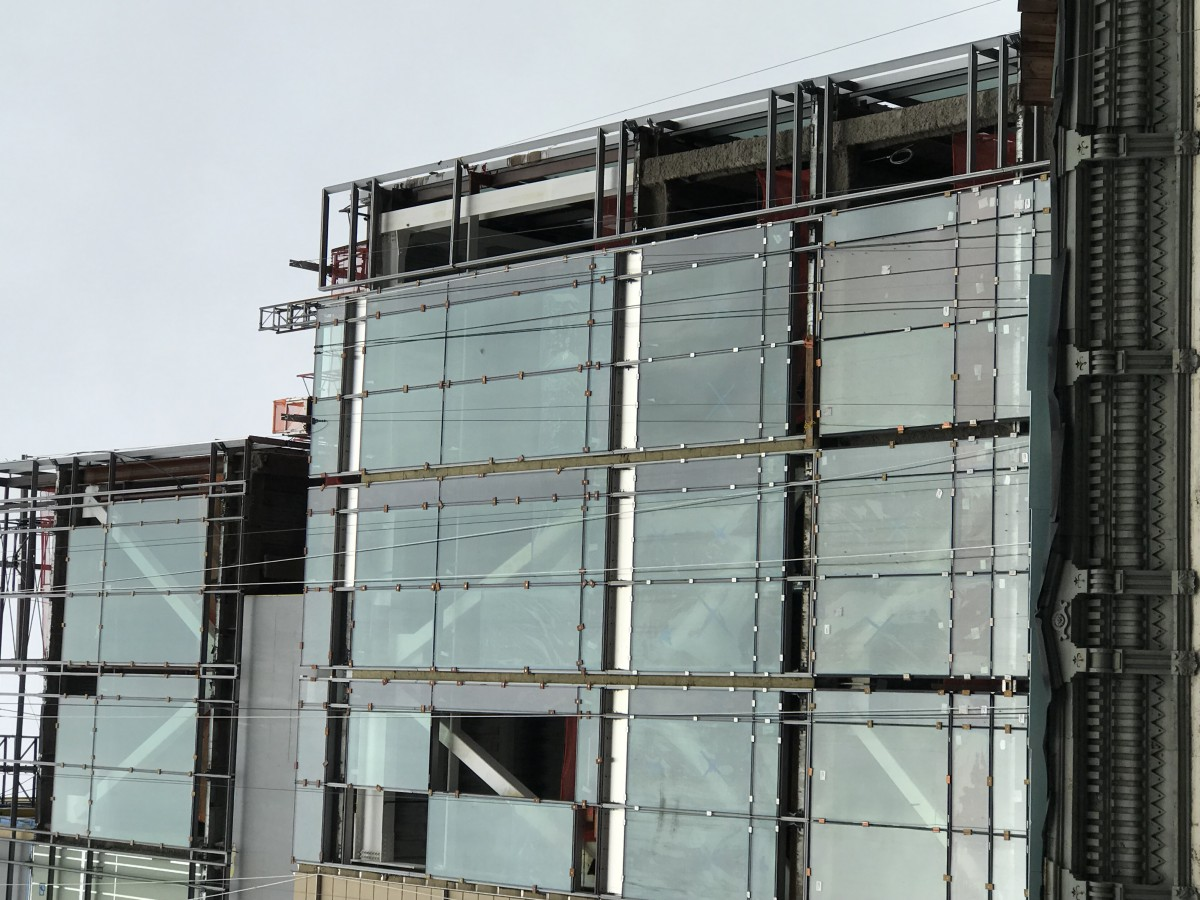glass_panel: (90, 676, 195, 845), (99, 499, 205, 663), (361, 286, 445, 469), (445, 278, 590, 381), (821, 231, 955, 337), (811, 723, 948, 826), (426, 795, 574, 890), (820, 328, 953, 432), (813, 575, 949, 674), (442, 370, 587, 462), (437, 496, 582, 588), (637, 340, 762, 445), (818, 476, 951, 574), (640, 256, 763, 357), (627, 717, 754, 812), (436, 585, 578, 668), (622, 810, 749, 899), (631, 581, 756, 671), (634, 488, 758, 577), (809, 824, 946, 899), (94, 676, 195, 771), (105, 499, 205, 590), (363, 287, 446, 393), (90, 771, 192, 845), (354, 500, 437, 588), (101, 594, 201, 663), (361, 387, 443, 469), (351, 587, 435, 666), (346, 709, 428, 789), (822, 197, 957, 241), (62, 527, 105, 660), (643, 226, 770, 270), (819, 442, 954, 483), (813, 690, 948, 726), (580, 501, 608, 668), (433, 682, 577, 714), (93, 852, 190, 899), (637, 458, 759, 494), (750, 693, 781, 830), (955, 220, 996, 322), (954, 468, 993, 572), (954, 319, 994, 420), (951, 726, 990, 829), (951, 574, 991, 674), (628, 688, 753, 717), (992, 729, 1027, 831), (993, 573, 1028, 675), (996, 311, 1029, 418), (760, 344, 798, 436), (757, 457, 786, 577), (994, 469, 1028, 570), (305, 490, 338, 586), (55, 697, 95, 765), (950, 831, 990, 899), (62, 593, 101, 661), (66, 526, 105, 593), (347, 679, 431, 710), (51, 768, 90, 834), (300, 586, 332, 665), (296, 703, 325, 784), (585, 364, 612, 451), (748, 821, 778, 899), (990, 836, 1027, 899), (292, 785, 323, 860), (310, 399, 341, 473), (313, 323, 344, 397), (574, 715, 600, 802), (50, 847, 88, 899), (958, 187, 997, 222), (1000, 181, 1034, 216), (1033, 176, 1051, 210)
